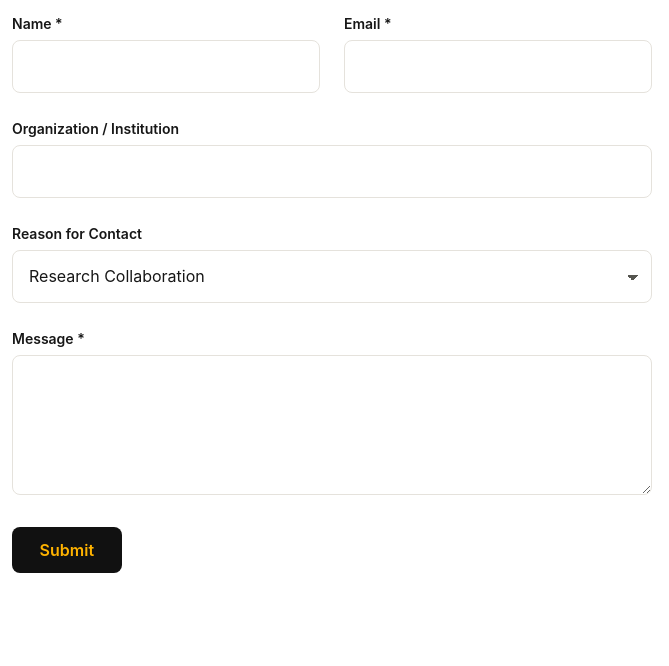
Test case: ContactForm › shows validation errors for empty required fields
Click the button "Submit".
click(67, 550)  # box [12, 527, 122, 572]
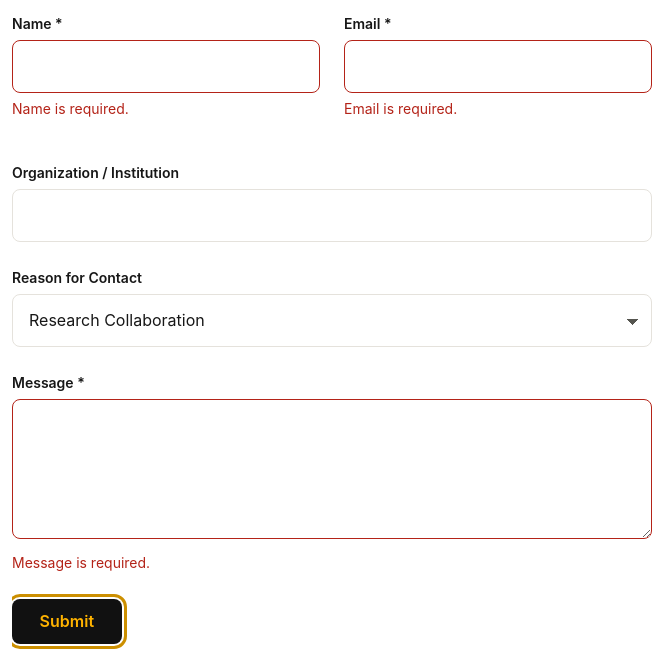
Expected: the text "Name is required." is shown, [12, 100, 129, 117]
Expected: the text "Email is required." is shown, [344, 100, 457, 117]
Expected: the text "Message is required." is shown, [12, 554, 150, 571]
